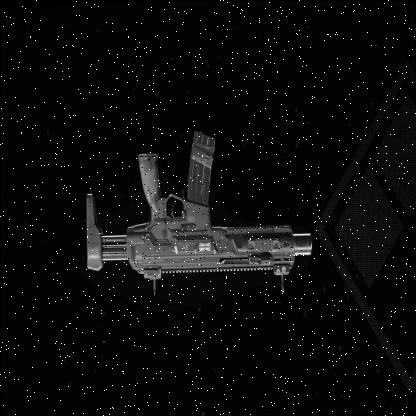rifle: (81, 118, 320, 308)
